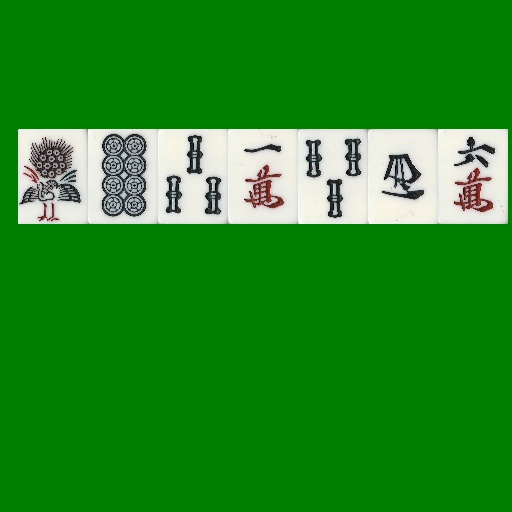1m: (228, 129, 298, 224)
1s: (18, 129, 88, 224)
3s: (158, 129, 228, 224), (298, 129, 368, 224)
6m: (438, 129, 508, 224)
8p: (88, 129, 158, 224)
west: (368, 129, 438, 224)
